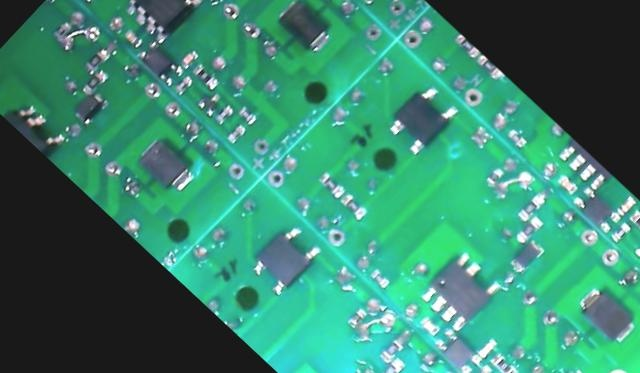chip-capacitor: (614, 194, 638, 219), (418, 314, 442, 338), (121, 26, 145, 50), (556, 172, 580, 196), (477, 337, 499, 360), (178, 48, 200, 70)
chip-resistor: (337, 190, 371, 224), (80, 44, 113, 78), (315, 169, 348, 201), (189, 61, 222, 93), (79, 67, 109, 98), (377, 335, 406, 365), (473, 54, 503, 83), (513, 218, 542, 247), (451, 32, 480, 61), (488, 350, 522, 373), (515, 195, 542, 223), (345, 304, 370, 330), (211, 101, 236, 127), (375, 353, 407, 373), (224, 121, 249, 146), (368, 266, 392, 291), (608, 220, 632, 245), (236, 104, 260, 128), (172, 73, 196, 97), (504, 127, 528, 150), (483, 165, 505, 187), (51, 20, 72, 41), (470, 362, 494, 373), (360, 0, 384, 6)
diode: (131, 132, 201, 201), (572, 279, 640, 349), (271, 0, 339, 59), (70, 87, 110, 128), (507, 237, 546, 277)
ic: (415, 245, 505, 336), (244, 217, 327, 301), (381, 77, 463, 159), (111, 0, 206, 49), (569, 183, 623, 236), (429, 323, 485, 373), (135, 39, 187, 90)
transistor: (194, 87, 226, 120)
